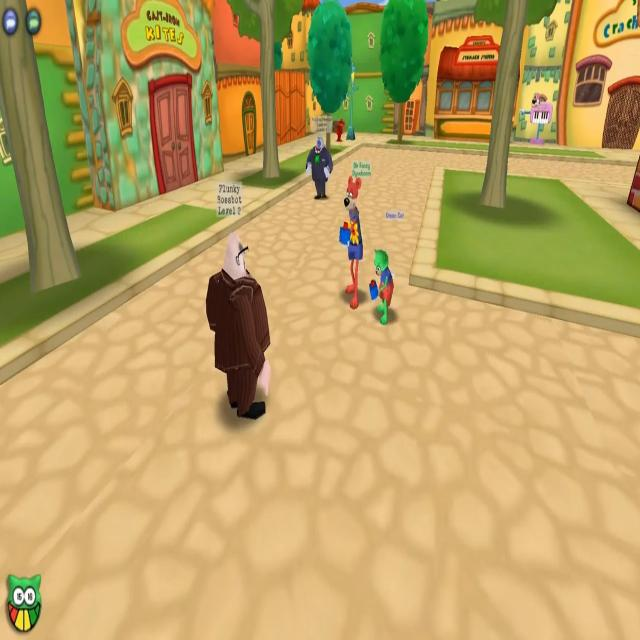bottomfeeder: (304, 112, 336, 205)
flunky: (204, 181, 274, 422)
